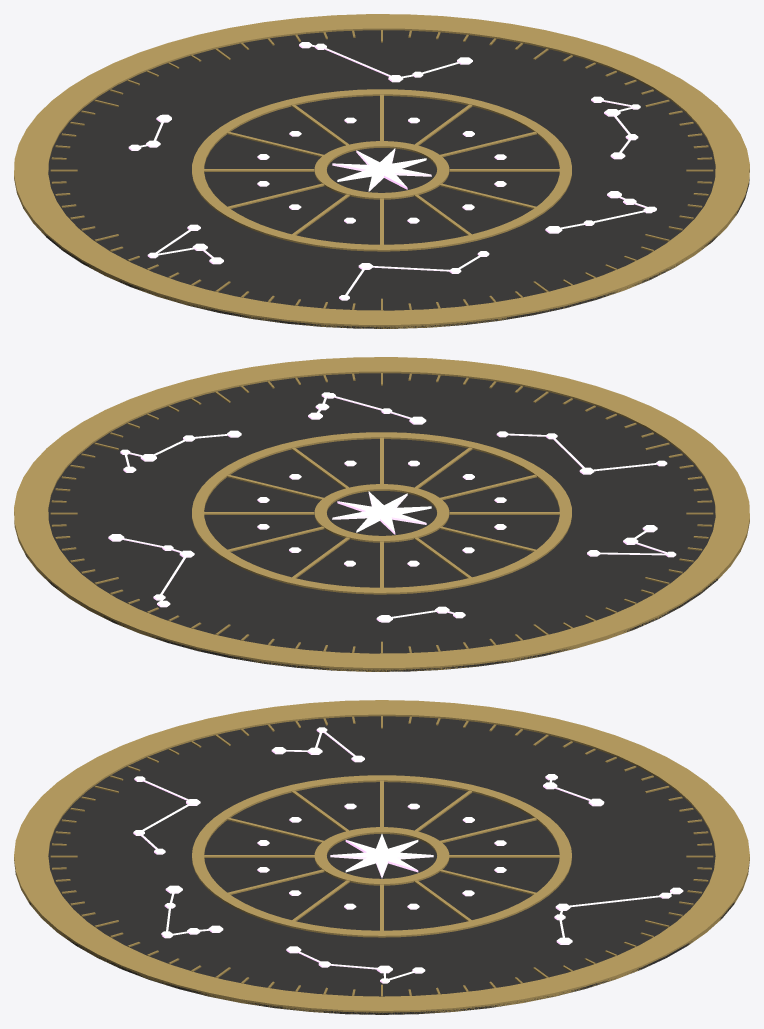
File: star_lens_disc.glb
3 views of the same model, one above another, from view 1: azimuth 30°, elevation 25°; view 2: azimuth 150°, elevation 25°; view 3: azimuth 270°, elevation 25° (orthographic).
Visible parts, largest first — view 1: star_lens_disc; view 2: star_lens_disc; view 3: star_lens_disc.
Boxes of the visible parts, x1=… form: star_lens_disc: x1=14, y1=14, x2=749, y2=328; star_lens_disc: x1=14, y1=357, x2=749, y2=671; star_lens_disc: x1=14, y1=700, x2=749, y2=1014.
Bounding box in the file's own units: 6 × 0.04 × 6.
